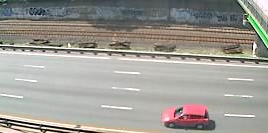car: (159, 102, 212, 131)
